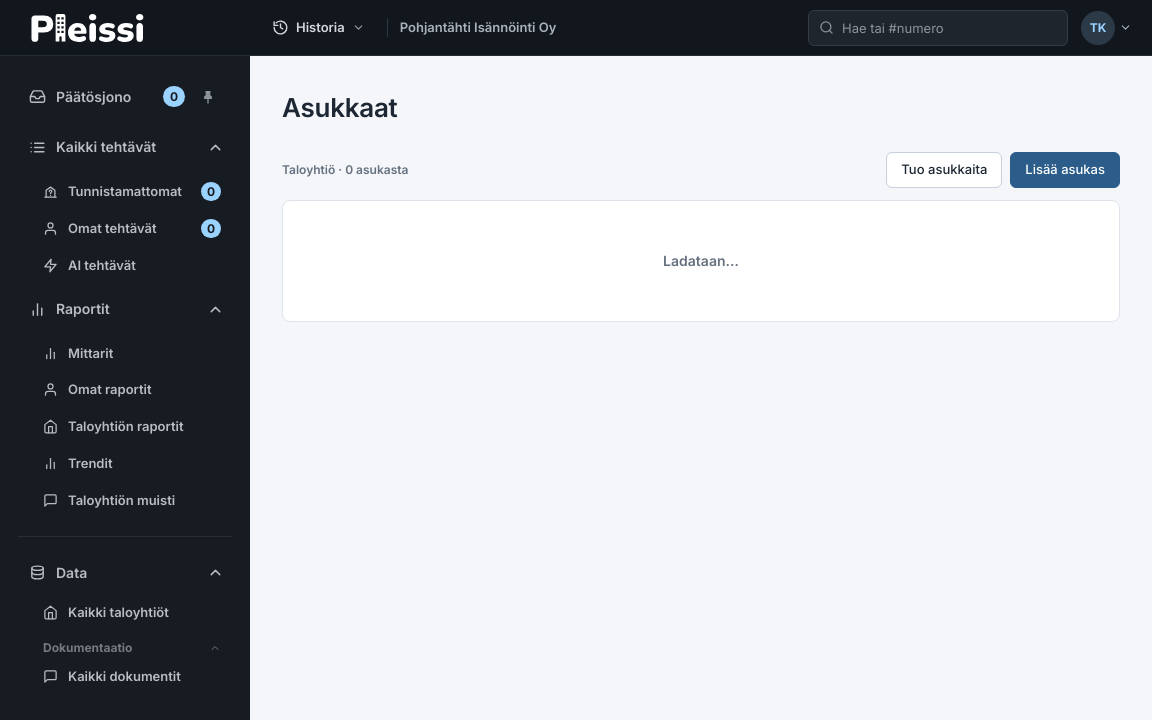
sovellus › Data-osiossa ovat kaikki taloyhtiöt ja taloyhtiöosion taulut kaikista taloyhtiöistä
Expected: the button "Kaikki dokumentit" is shown, [32,661,232,692]
Click the button "Kaikki taloyhtiöt" at (132, 612), box [32,597,232,628]
(page scrolled)
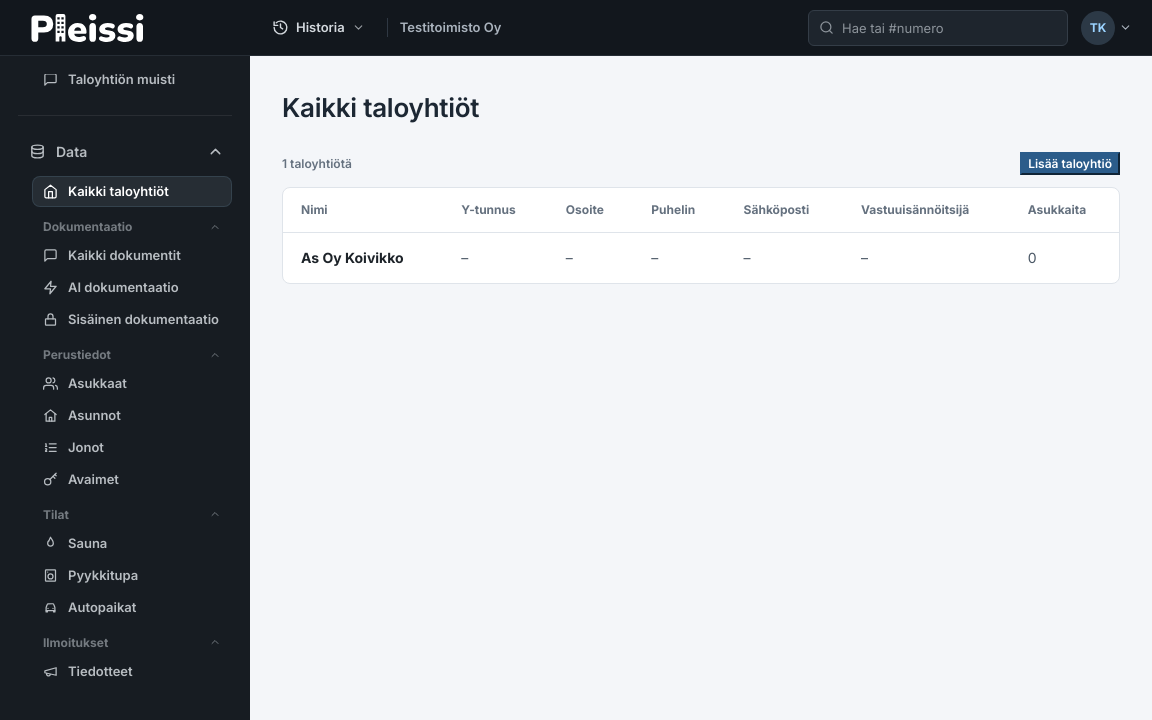
Click the button "Asukkaat" at (132, 384), box [32,368,232,399]
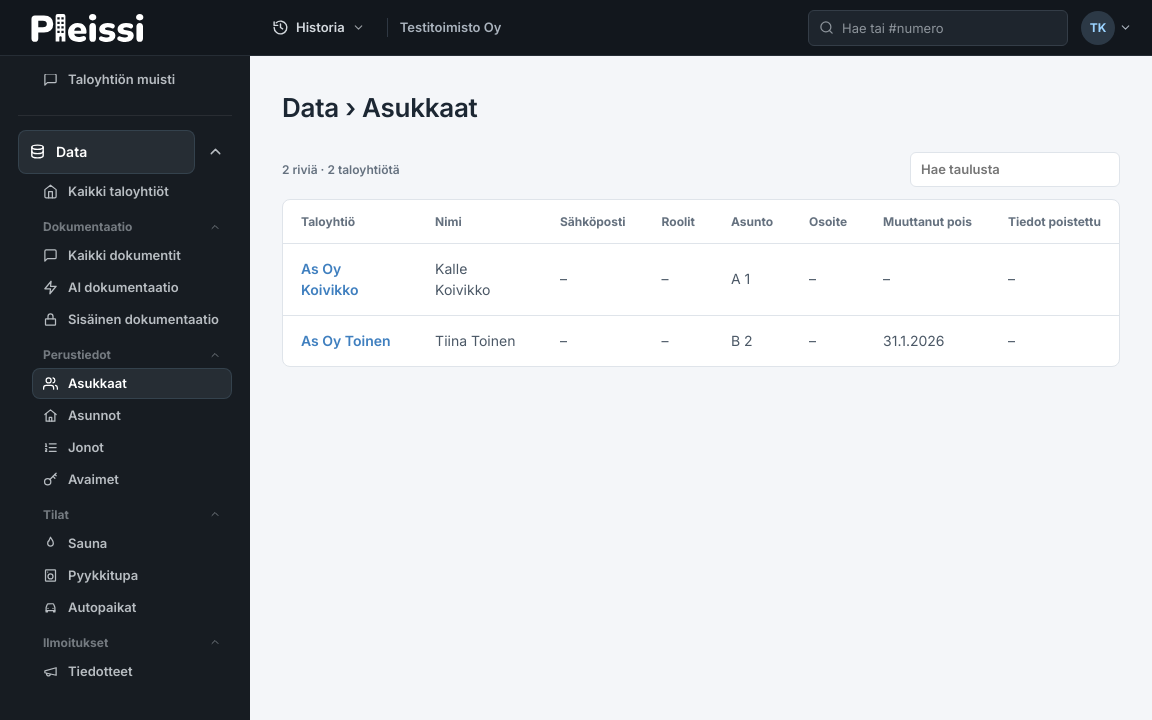
Expected: the text "Tiina Toinen" is shown, [417,315,542,366]
Expected: the text "Kalle Koivikko" is shown, [417,244,542,315]
Expected: the text "2 riviä · 2 taloyhtiötä" is shown, [282,161,400,178]
